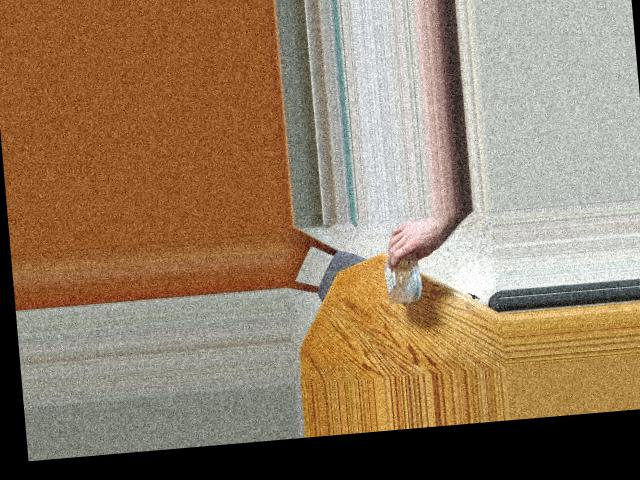cheese: (373, 240, 437, 311)
